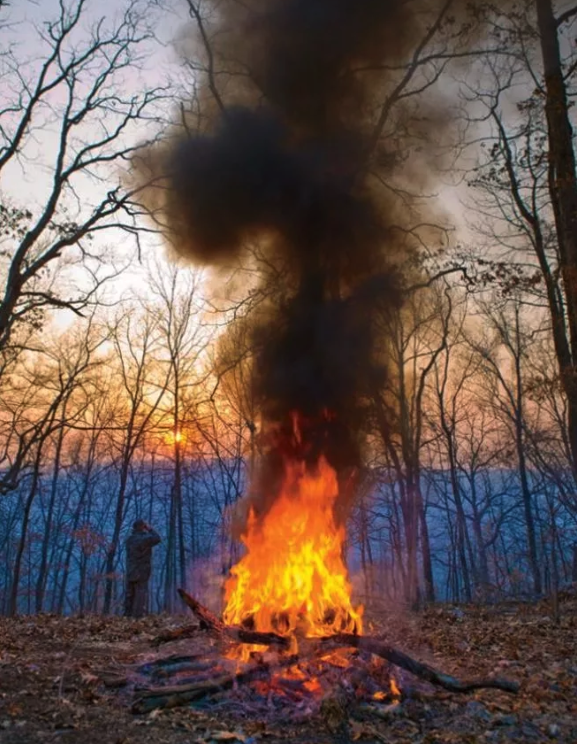fire: (231, 453, 370, 690)
